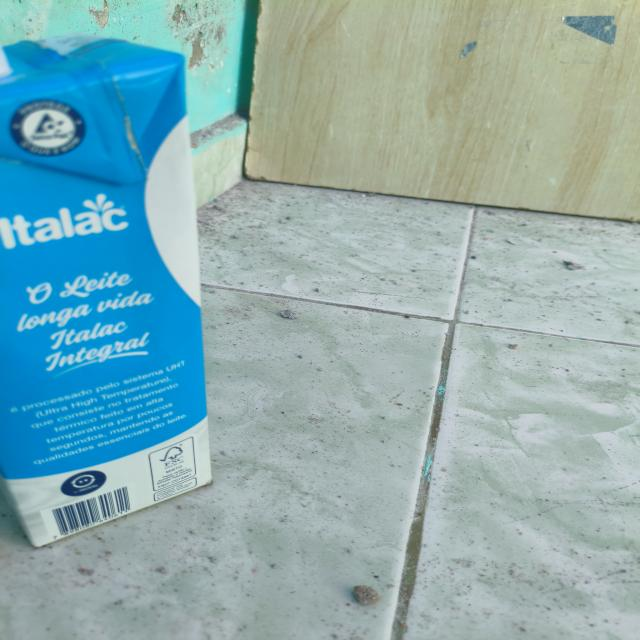Caixa de Leite: (0, 39, 213, 551)
